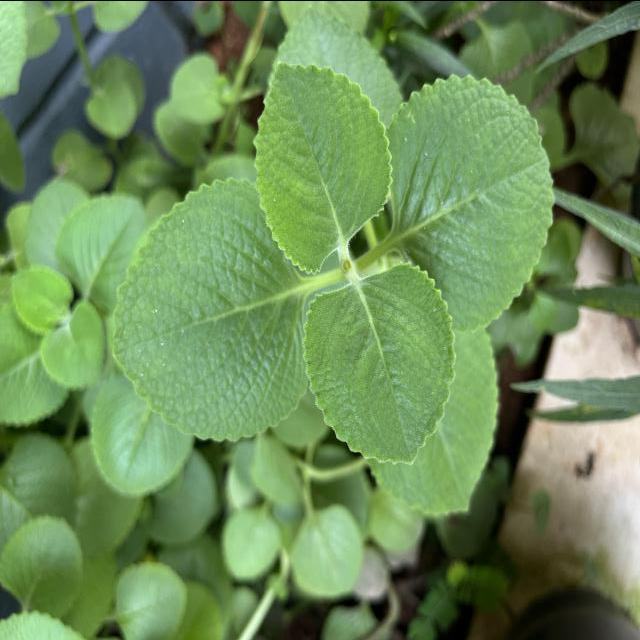Plectranthus barbatus: (110, 176, 310, 444), (384, 72, 556, 334), (302, 260, 456, 468), (250, 58, 395, 276)
